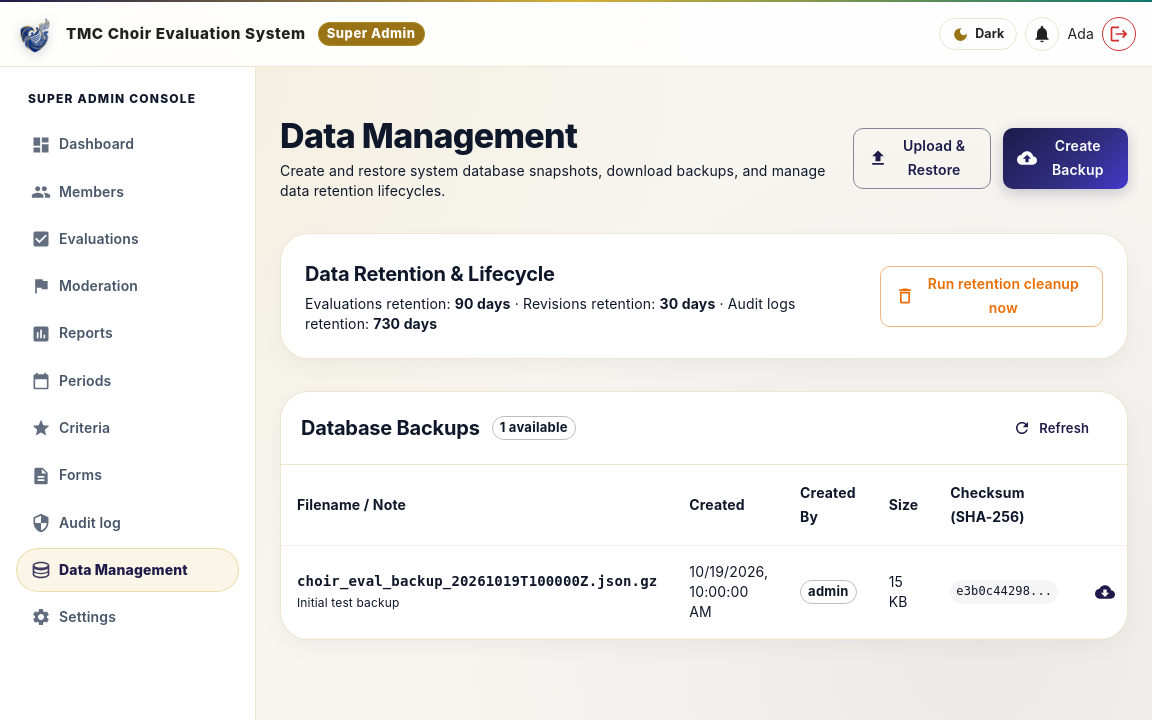
Test: Admin Data Management Page › executes manual data retention cleanup with confirmation
Step 1. Click the button "Run retention cleanup now" → click(991, 296), box [880,266,1103,326]
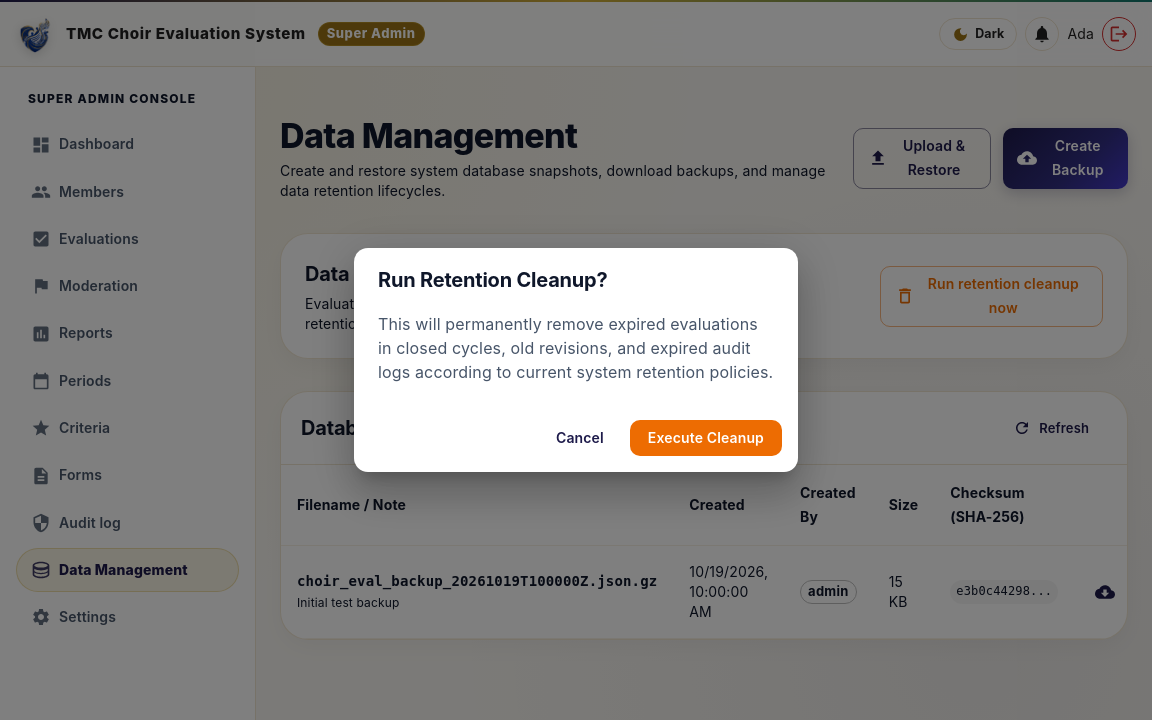
Result: the dialog "Run Retention Cleanup?" is shown at [354,248,798,472]
Step 2. Click the button "Execute Cleanup" → click(706, 438), box [630,420,782,456]
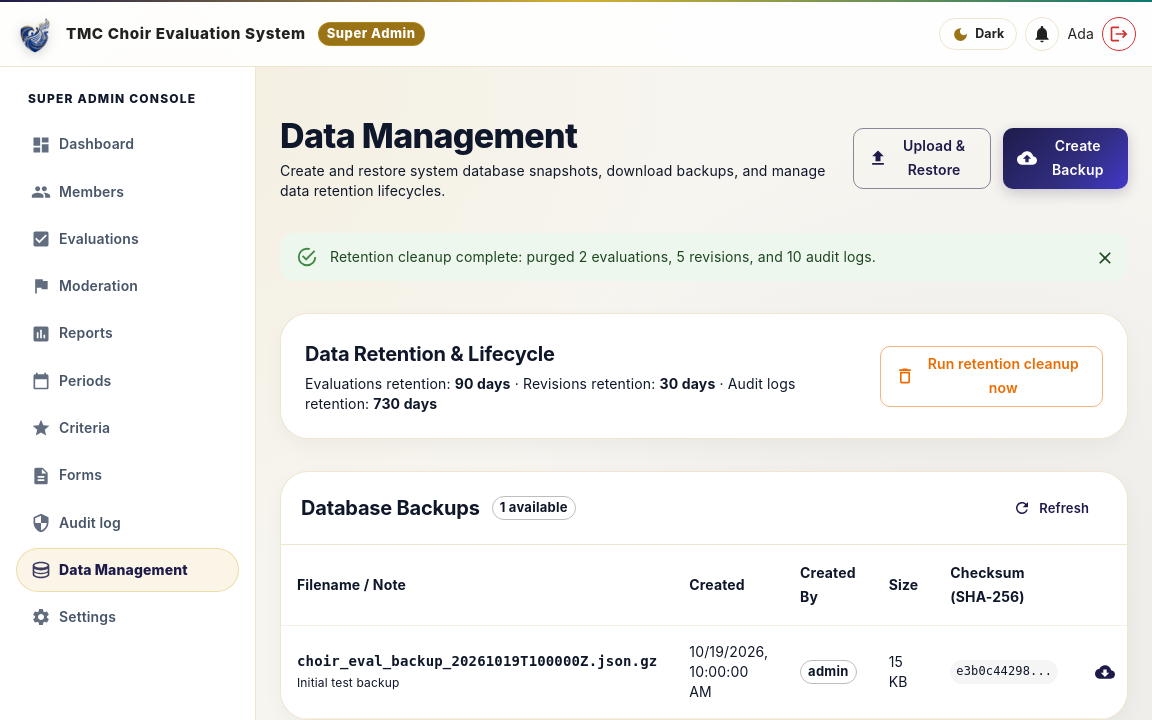
Result: the text "Retention cleanup complete: purged 2 evaluations, 5 revisions, and 10 audit logs." is shown at [330,248,876,265]
